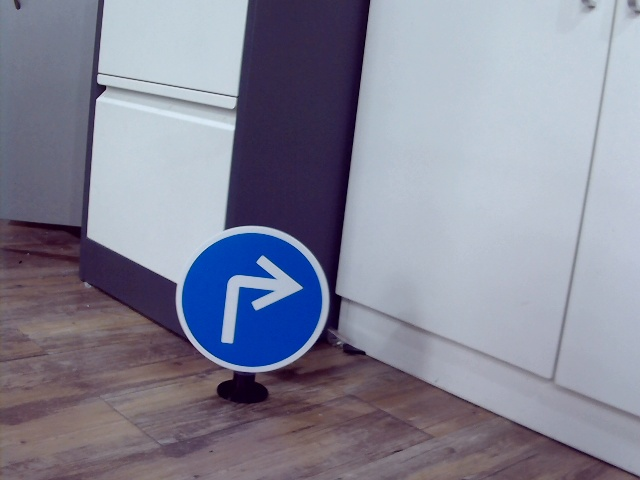turn_right: (215, 252, 301, 349)
